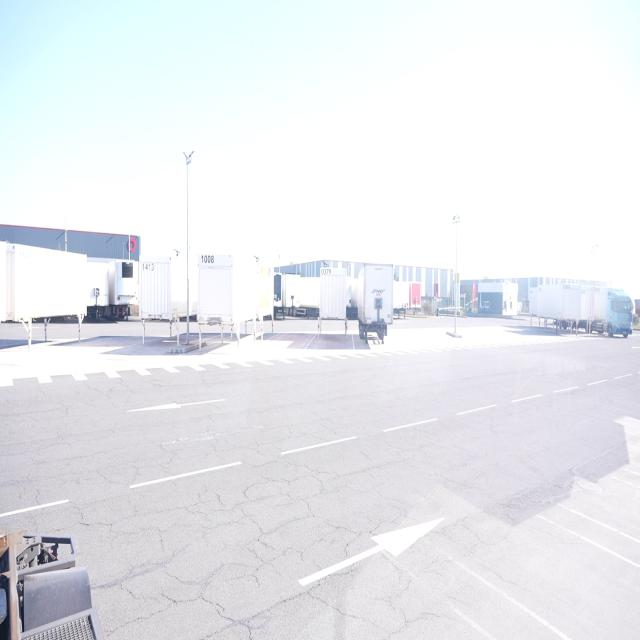Code: (198, 253, 217, 269), (139, 259, 156, 275), (318, 269, 333, 278)
